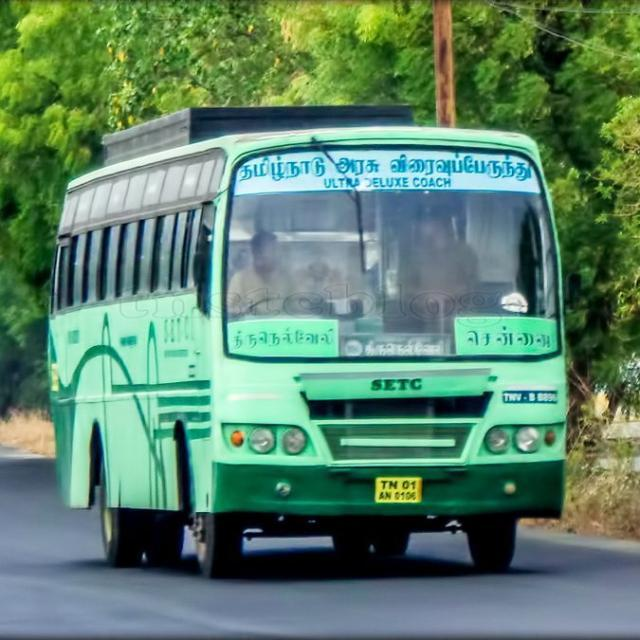Bus: (47, 97, 571, 578)
